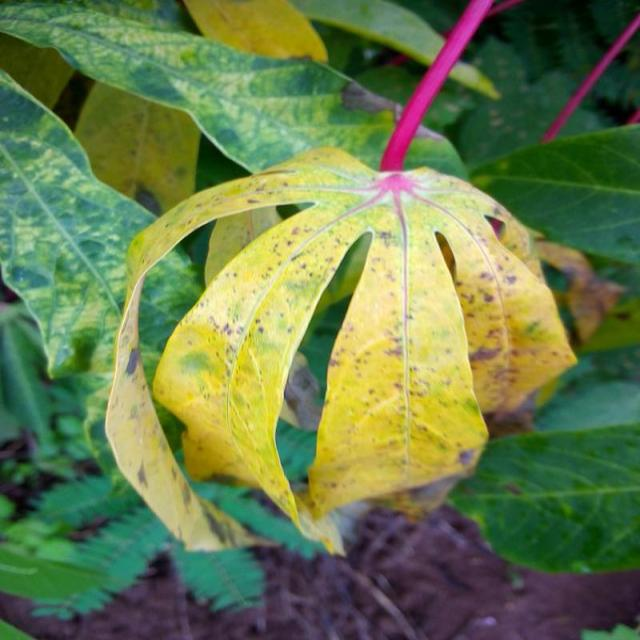cassava leaf: (107, 143, 578, 560)
